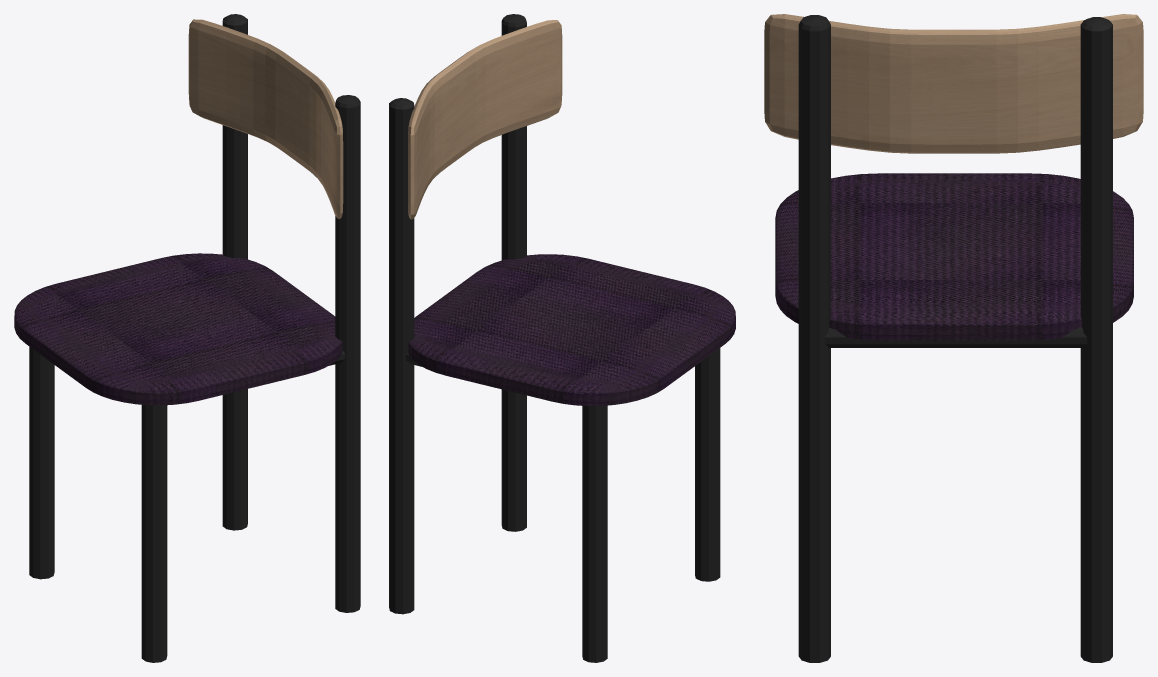
Rendered from Krzesło.fbx.
3 renders of one model, left to right at view 1: azimuth 30°, elevation 25°; view 2: azimuth 150°, elevation 25°; view 3: azimuth 270°, elevation 25°, orthographic. The views are drawn at different scales.
Visible parts, largest first — view 1: Cube; view 2: Cube; view 3: Cube.
Boxes of the visible parts, x1,y1,x2,y2 form: Cube: (14,14,360,662); Cube: (389,14,735,662); Cube: (764,14,1143,662).
Size of the model in its own units: 515 by 1017 by 546.
3 materials, 2 textured.
